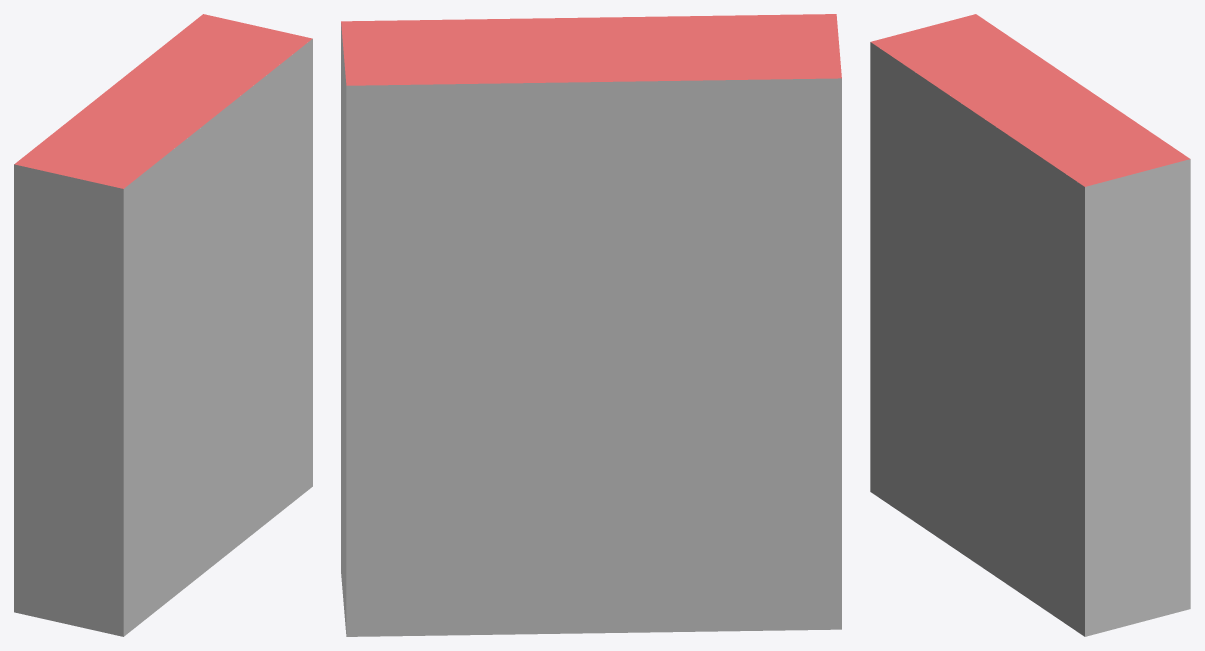
The model's file is ID_5616bbb4-78eb-4df6-a4c3-f84a5207b377.gltf.
3 views of the same model, side by side, from view 1: azimuth 30°, elevation 25°; view 2: azimuth 150°, elevation 25°; view 3: azimuth 270°, elevation 25° (orthographic). The views are drawn at different scales.
Parts seen in each view (by area): view 1: Z_UP; view 2: Z_UP; view 3: Z_UP.
Part boxes in pixels (left/top/right/bottom): Z_UP: left=14, top=14, right=312, bottom=636; Z_UP: left=341, top=14, right=841, bottom=636; Z_UP: left=870, top=14, right=1190, bottom=636.
Size of the model in its own units: 13.14 by 15.95 by 10.28.
